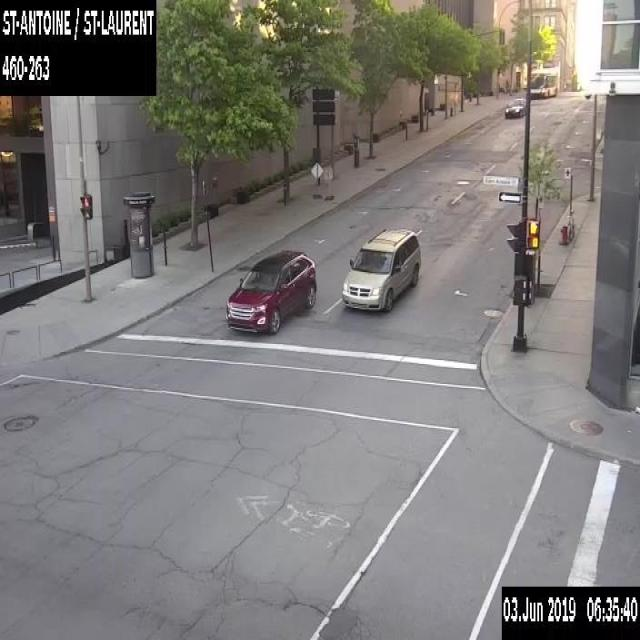bus: (530, 65, 558, 99)
construction: (310, 160, 323, 198), (324, 166, 334, 200)
vehicle: (225, 248, 317, 335), (341, 224, 421, 312), (504, 96, 526, 117)
